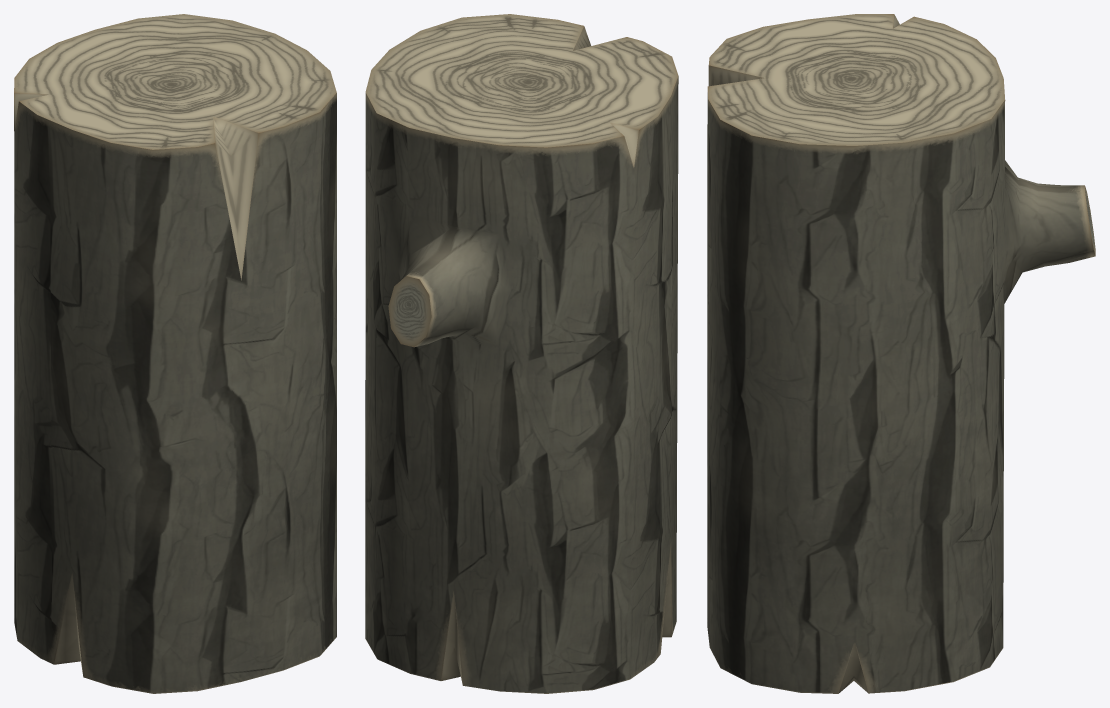
File: Wood Log.fbx
3 views of the same model, side by side, from view 1: azimuth 30°, elevation 25°; view 2: azimuth 150°, elevation 25°; view 3: azimuth 270°, elevation 25° (orthographic).
Parts seen in each view (by area): view 1: Wood_Log_Mdl; view 2: Wood_Log_Mdl; view 3: Wood_Log_Mdl.
Boxes of the visible parts, x1,y1,x2,y2 form: Wood_Log_Mdl: (14,14,336,693); Wood_Log_Mdl: (365,14,678,693); Wood_Log_Mdl: (707,14,1095,693).
Bounding box in the file's own units: 24.58 × 47.6 × 30.54.
1 material, 1 textured.
